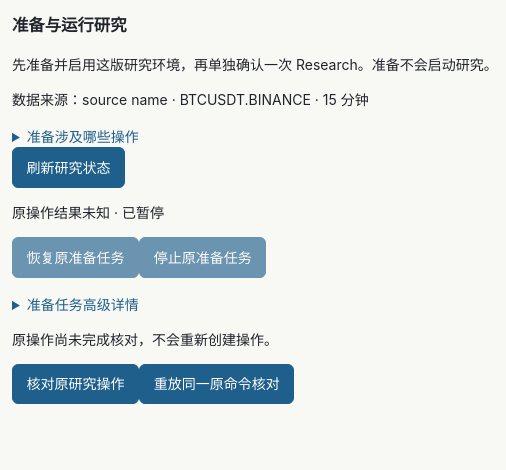
Scenario: keeps the original confirmation pending for unknown
The width and height of the screenshot is (506, 470).
What coordinates should you click on to do the following:
click the button "核对原研究操作"
I would click on:
 (76, 384)
Its box is [12,364,139,404].
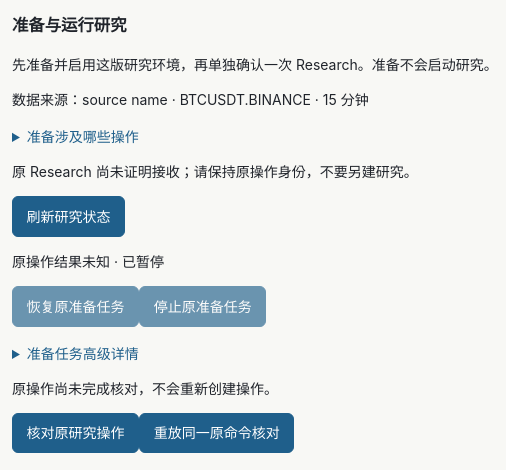
Check: the button "核对原研究操作" is shown, box [12,412,139,453]
Check: the text "原 Research 尚未证明接收；请保持原操作身份，不要另建研究。" is shown, box [12,163,418,180]
